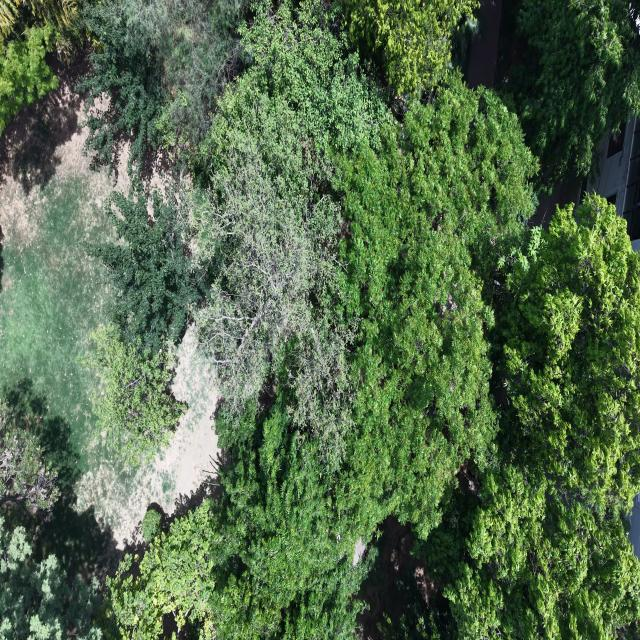DRY_AREA: (0, 63, 218, 548)
VEGETATION_TREE: (0, 0, 639, 639), (110, 4, 557, 638), (111, 5, 535, 637), (111, 5, 392, 637), (399, 199, 639, 637), (421, 197, 639, 638), (194, 6, 391, 460), (341, 79, 535, 536), (110, 393, 368, 638), (494, 197, 639, 509), (85, 183, 207, 465), (79, 0, 259, 163), (78, 0, 250, 170), (0, 379, 106, 639), (497, 0, 639, 189), (501, 0, 639, 187), (85, 184, 207, 353), (107, 502, 225, 638), (76, 0, 166, 166), (155, 0, 252, 151), (83, 326, 185, 465), (344, 0, 479, 94), (0, 517, 102, 639), (0, 0, 79, 133), (2, 378, 77, 517), (0, 400, 59, 511), (0, 24, 57, 132), (0, 0, 78, 37), (449, 14, 481, 75), (142, 508, 161, 542)
WATERBODY: (0, 130, 217, 547), (0, 156, 113, 470)
